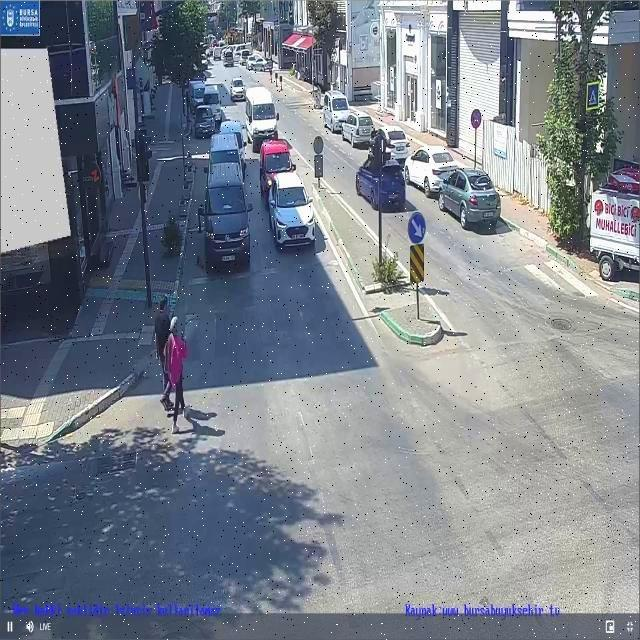Car: (438, 166, 500, 229), (266, 172, 317, 248), (402, 146, 457, 198), (356, 156, 407, 210), (256, 139, 296, 194), (370, 125, 411, 164), (339, 112, 374, 148), (322, 90, 352, 132), (193, 104, 215, 141), (229, 76, 247, 104), (252, 57, 274, 72), (246, 56, 259, 69)
Truck: (590, 182, 640, 282)
Van: (202, 163, 252, 268), (244, 85, 282, 151), (203, 132, 244, 176), (203, 84, 227, 125), (187, 81, 206, 112), (239, 50, 251, 66), (212, 46, 222, 61)
